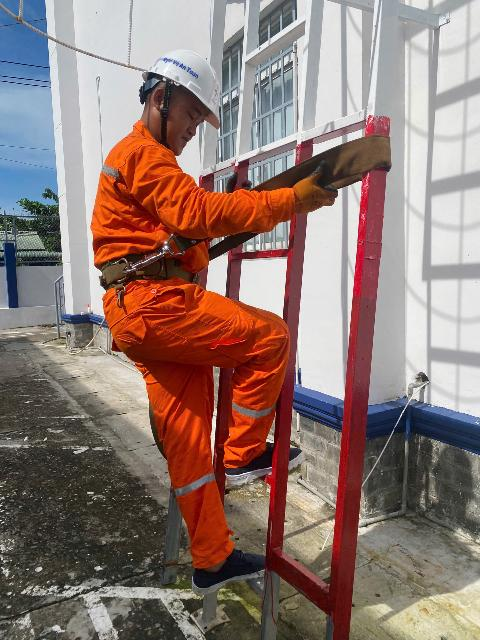gloves: (280, 155, 358, 216)
harness: (83, 251, 216, 298)
helmet: (127, 36, 255, 134)
shoes: (211, 414, 328, 492), (167, 533, 295, 595)
